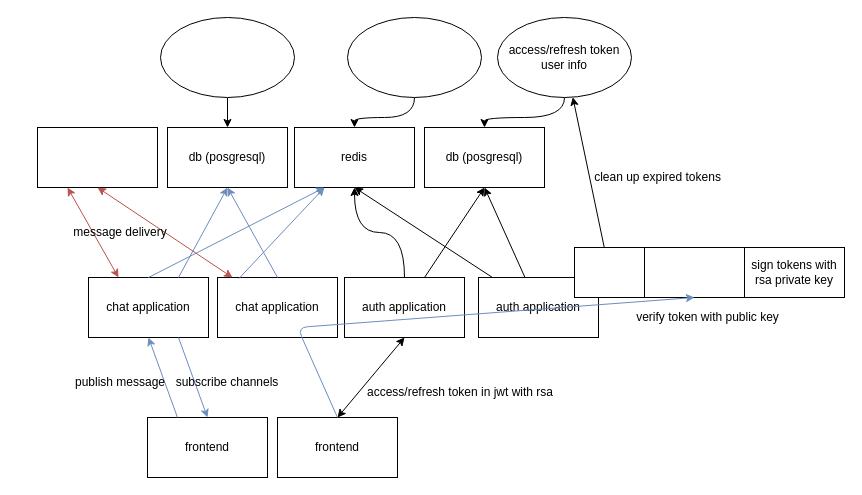
Some shapes in this 862 by 495 pixel diagram are drawn without their labels. The centre of each missing label's shape, as x and y in pixels:
"access token blacklist rate limit info" goes at (x=414, y=57).
"jobrunur" goes at (x=609, y=272).
"Nats (cluster)" goes at (x=97, y=157).
"rsa public key" goes at (x=694, y=272).
"user info, channels and messages" goes at (x=227, y=57).
